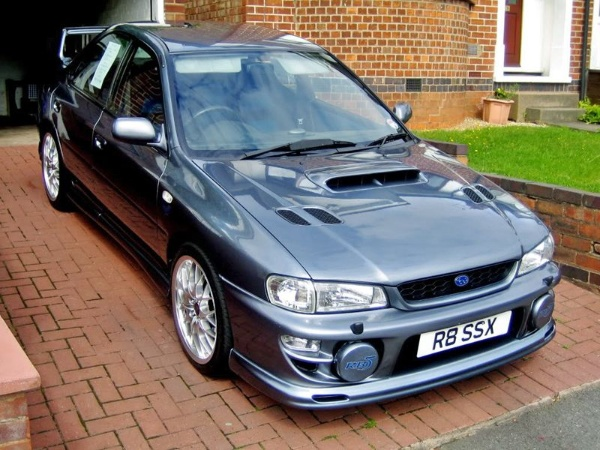licence: (416, 314, 511, 355)
